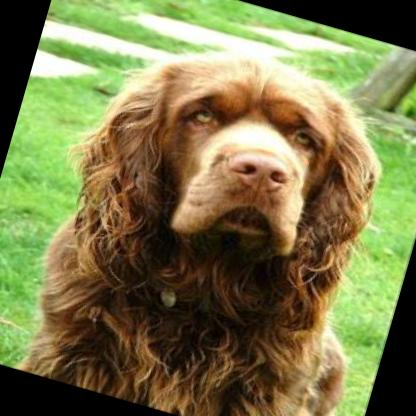Sussex_spaniel: (2, 3, 416, 416)
